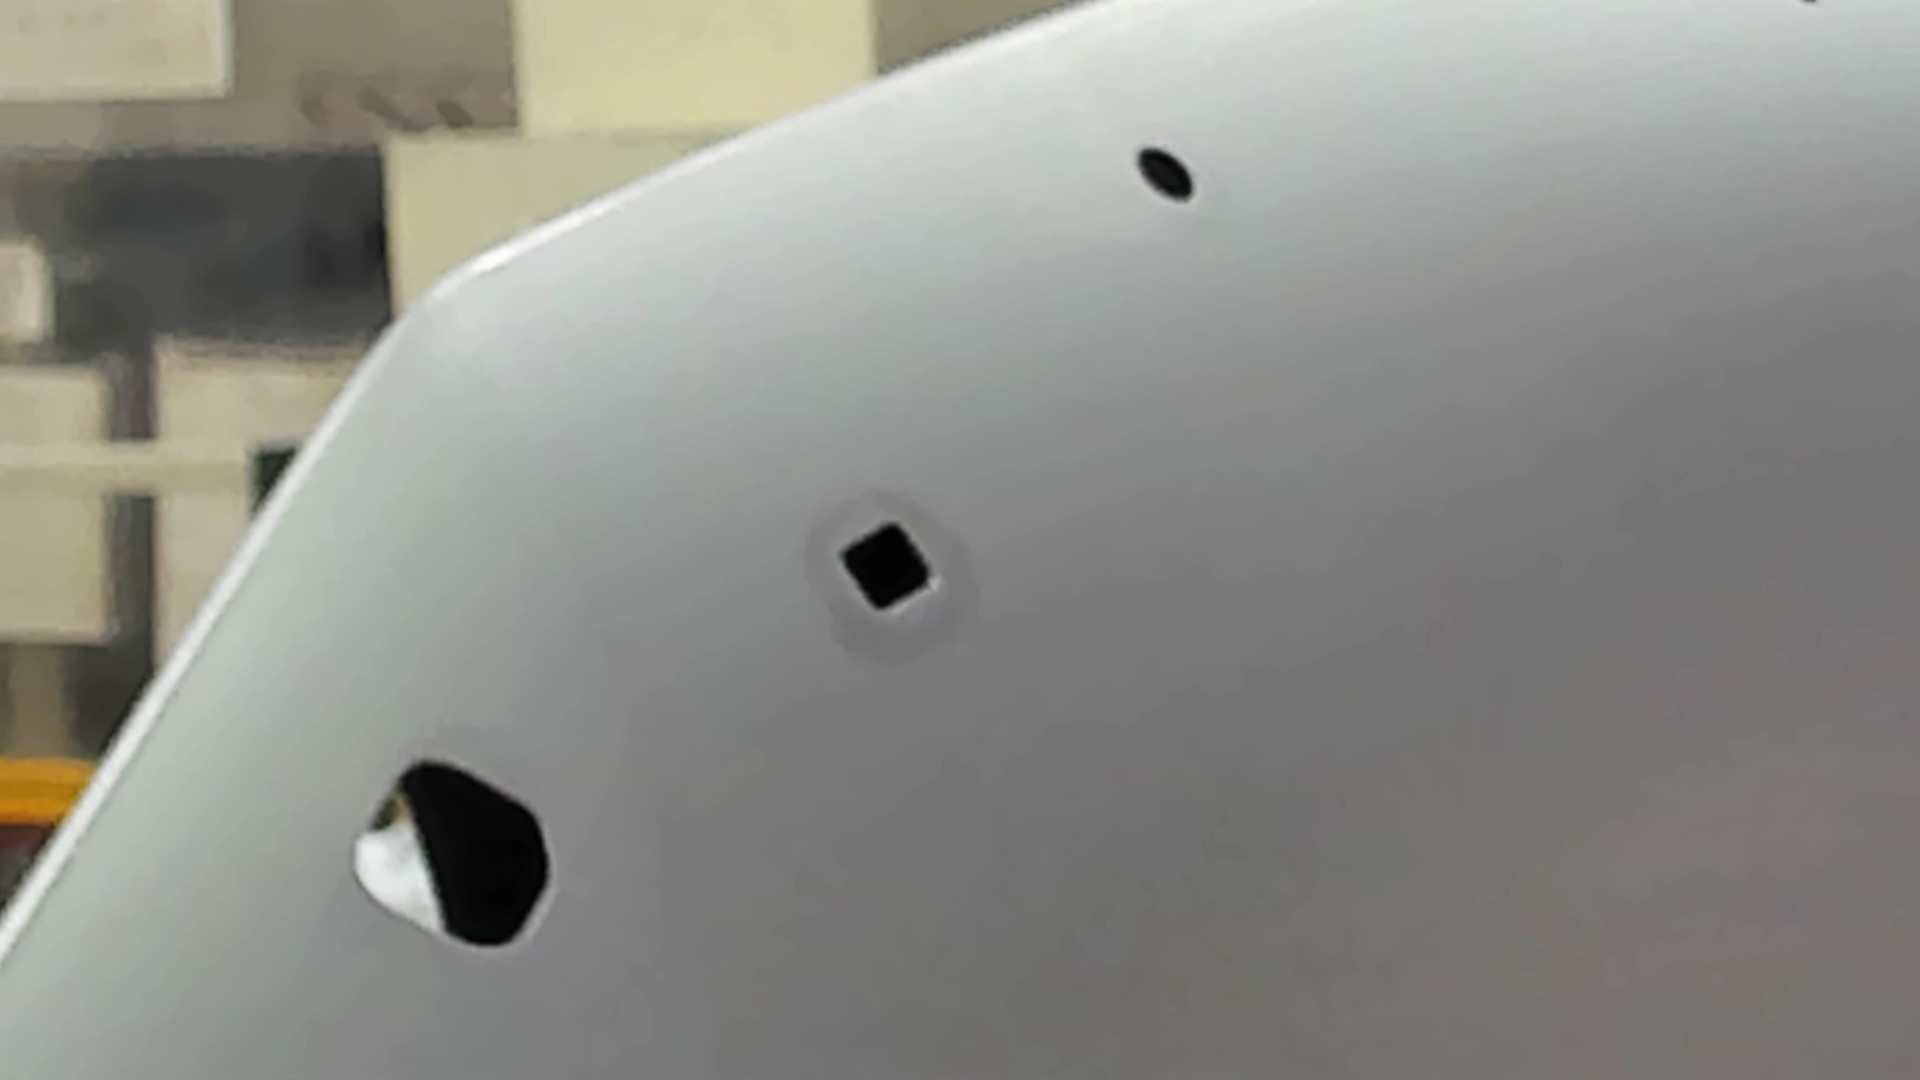capo: (949, 207, 1920, 1080)
chico: (1127, 136, 1205, 210)
grande: (339, 749, 564, 965)
mediano: (837, 512, 945, 624)
